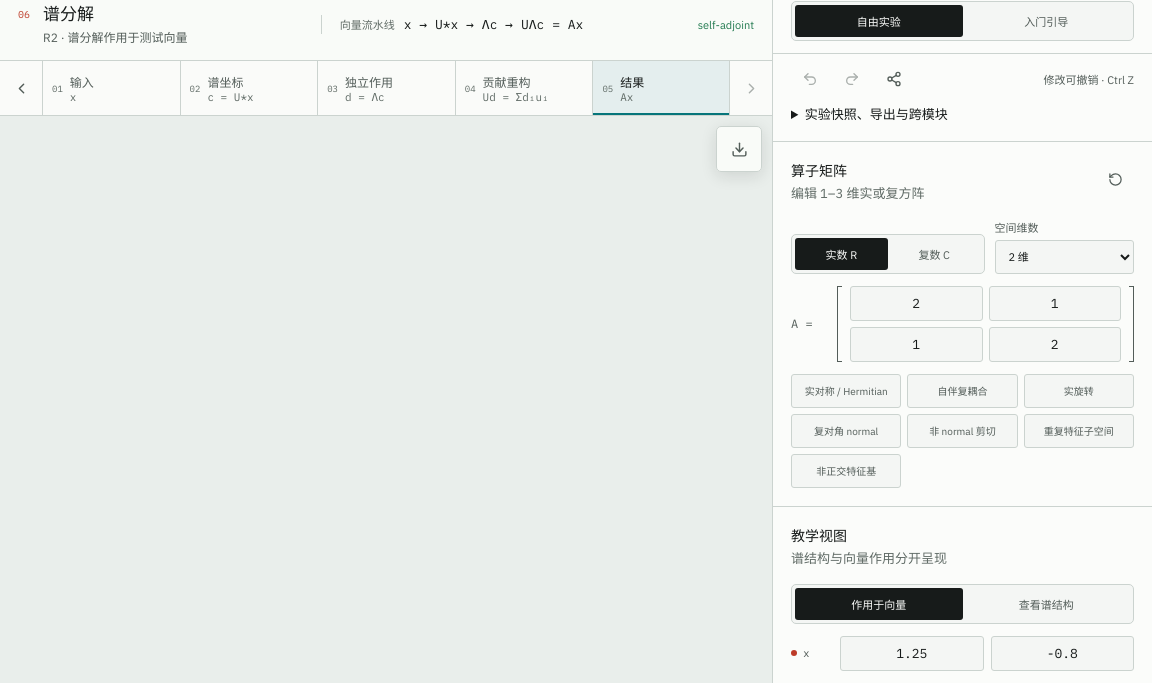
Test: OperatorScene teaching workflow › starts with a real vector application pipeline and switches to spectral structure
Expected: the element with test id "formula-readout" shows "x → U*x → Λc → UΛc = Ax", [404, 16, 583, 33]
Expected: the number of number fields with test id "operator-vector-component" is 2, [840, 636, 984, 671]; [990, 636, 1134, 671]
Click the radio button labelled "查看谱结构": (1046, 604) [962, 588, 1130, 620]
(page scrolled)
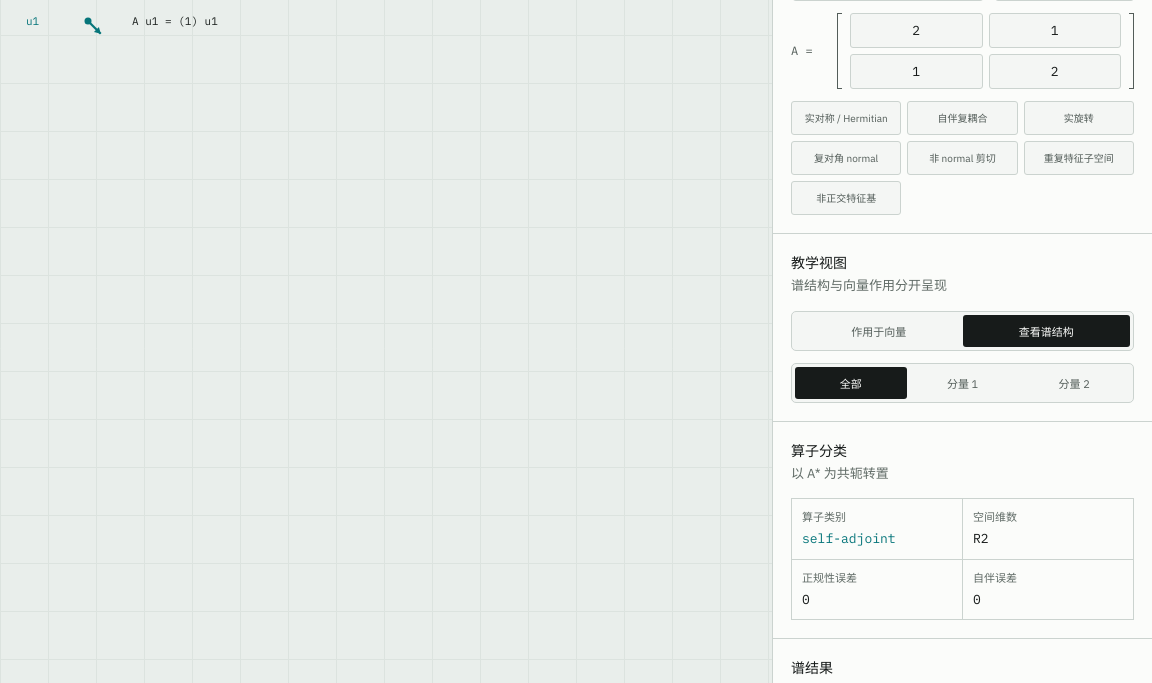
Expected: the number field with test id "operator-vector-component" is gone
